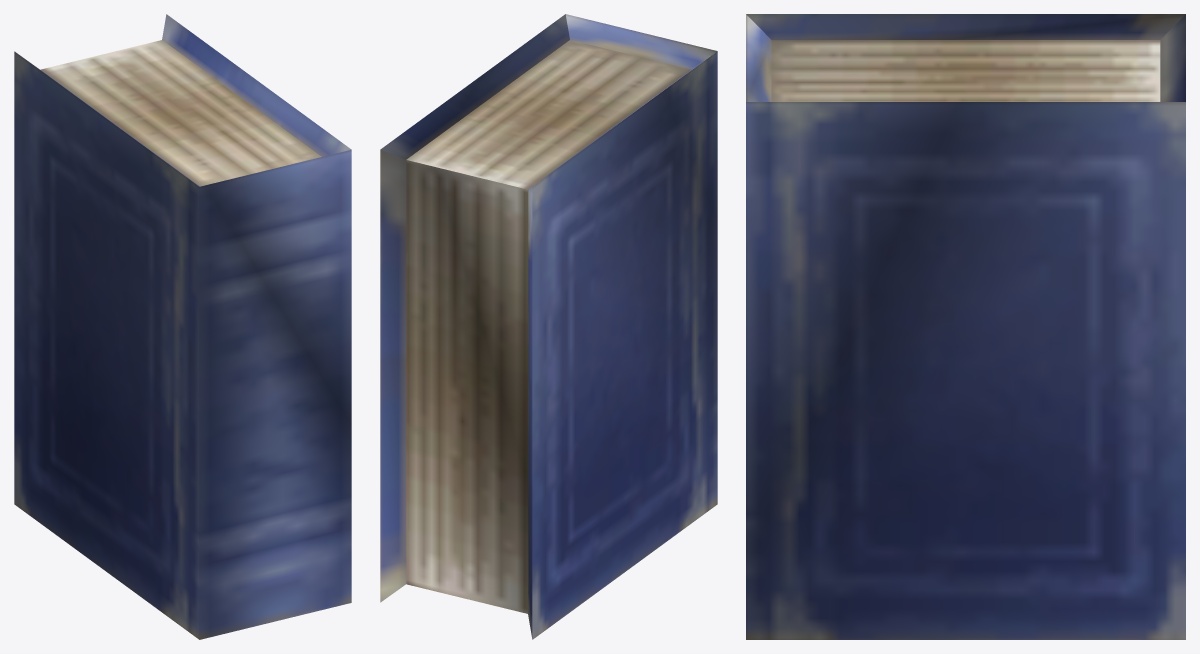
Rendered from bookmedium01.obj.
The picture shows the model from 3 angles, left to right: view 1: azimuth 30°, elevation 25°; view 2: azimuth 150°, elevation 25°; view 3: azimuth 270°, elevation 25°; orthographic projection. The views are drawn at different scales.
Visible parts, largest first — view 1: bookmedium01.m2; view 2: bookmedium01.m2; view 3: bookmedium01.m2.
Boxes of the visible parts, x1,y1,x2,y2 form: bookmedium01.m2: (14, 14, 351, 639); bookmedium01.m2: (380, 14, 717, 639); bookmedium01.m2: (746, 14, 1185, 639).
Bounding box in the file's own units: 0.2122 × 0.6039 × 0.4477.
Materials: 1 (1 with a texture image).
